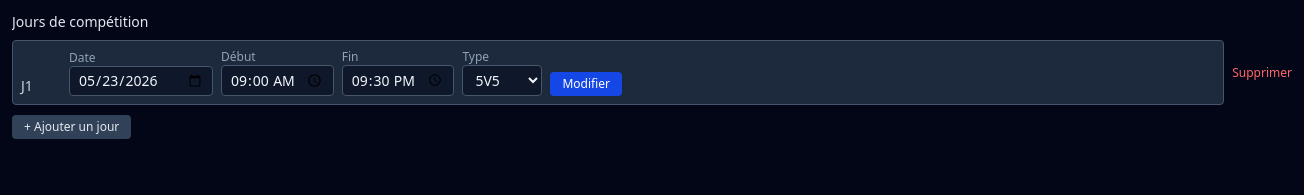
Test: EditionJoursTable › révèle un formulaire Créer pour le prochain numéro de jour au clic sur Ajouter un jour
The width and height of the screenshot is (1304, 195).
Click the button "+ Ajouter un jour": (72, 127) [12, 115, 131, 139]
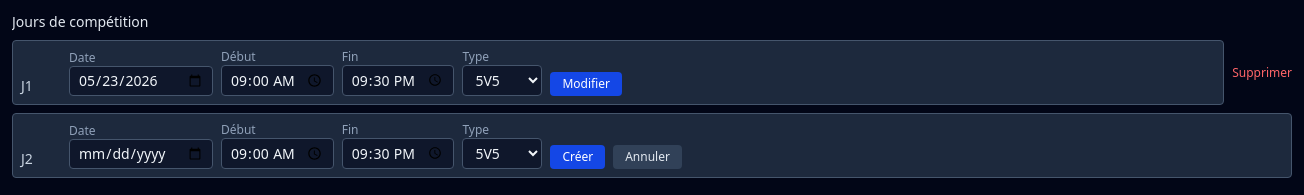
Check: the text "J2" is shown, box [21, 149, 33, 168]
Check: the button "Créer" is shown, box [550, 145, 605, 169]
